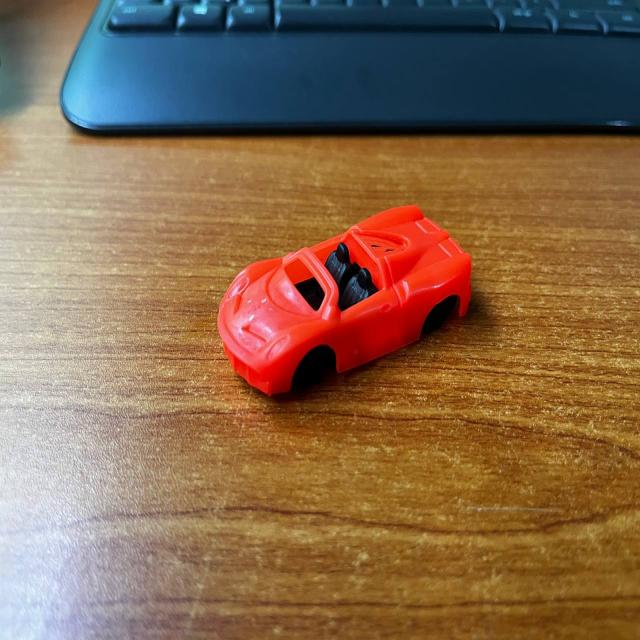car: (213, 200, 481, 418)
